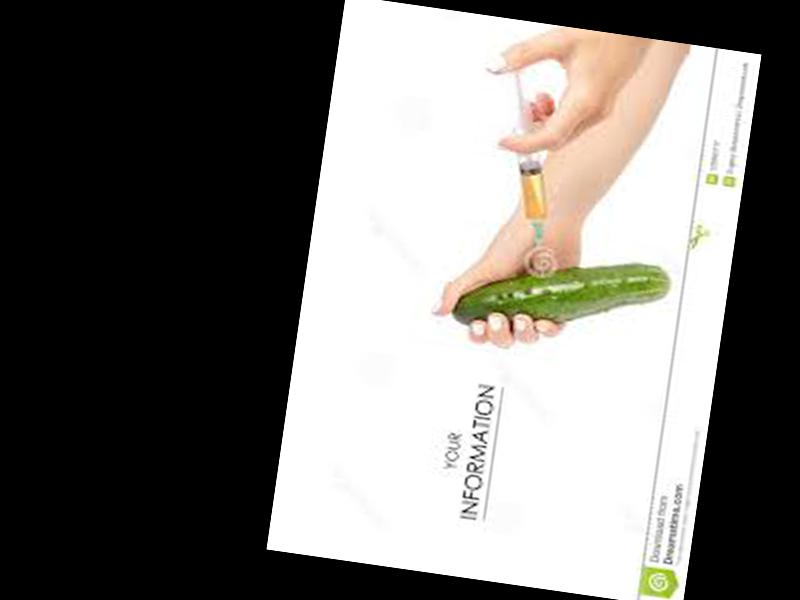Cucumber: (450, 238, 673, 352)
